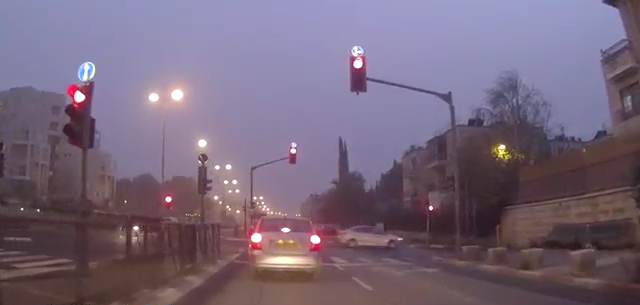car: (246, 214, 323, 279), (335, 224, 403, 250), (320, 223, 337, 235)
